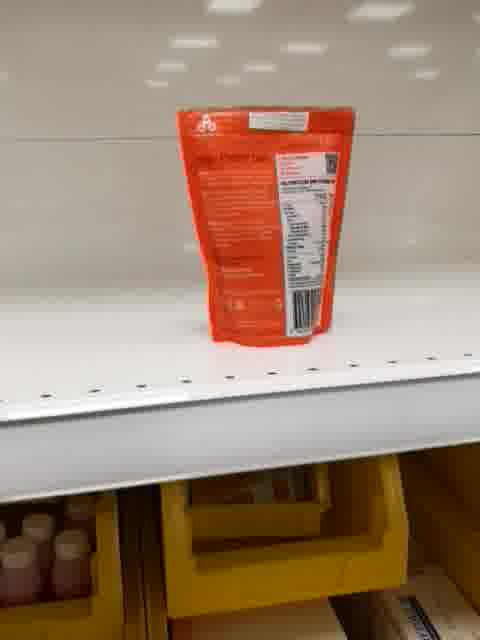whitechia: (173, 100, 357, 353)
